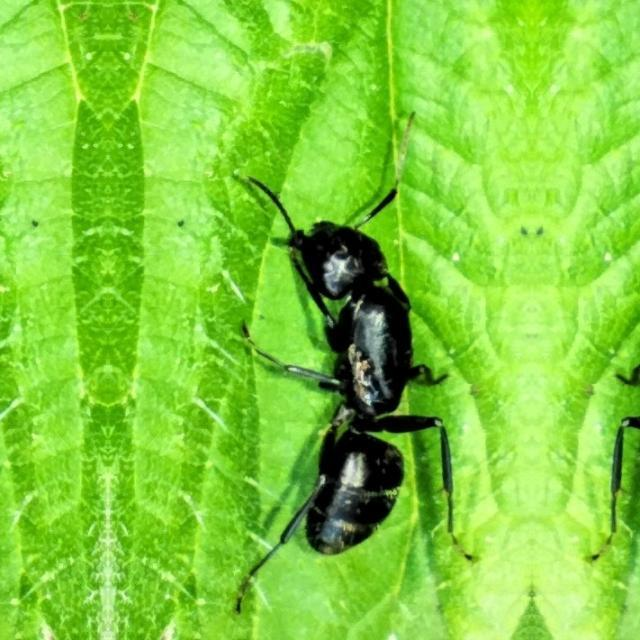Camponotus: (247, 172, 445, 572)
